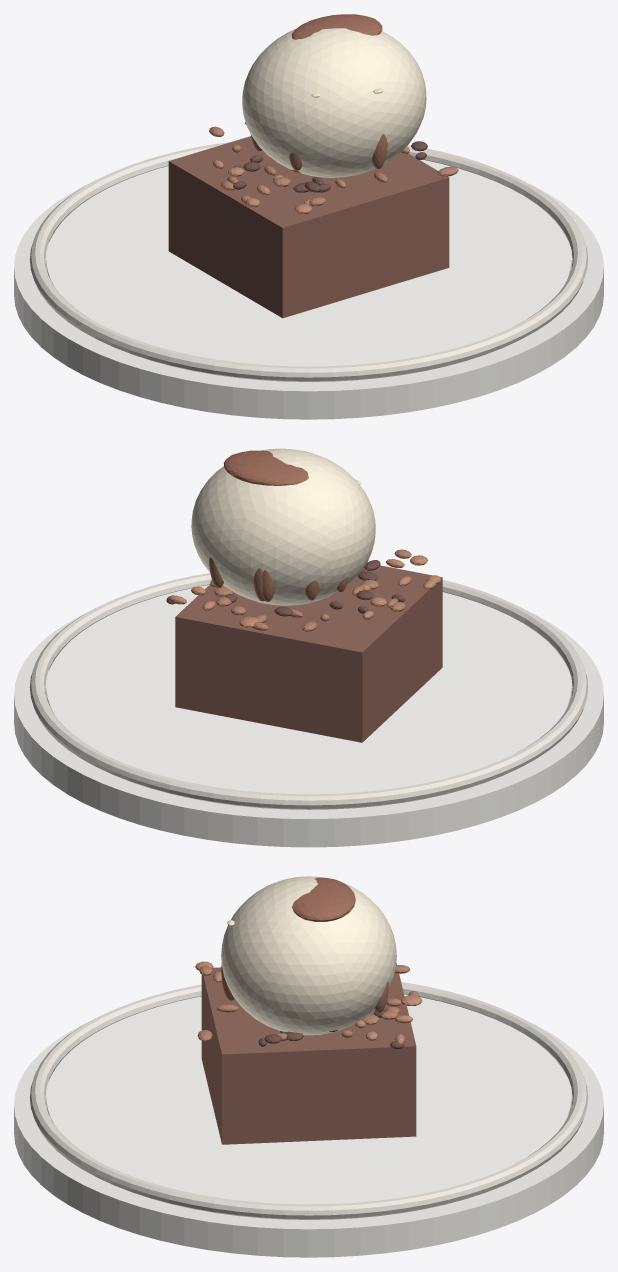
The model's file is brownie.glb.
3 views of the same model, one above another, from view 1: azimuth 30°, elevation 25°; view 2: azimuth 150°, elevation 25°; view 3: azimuth 270°, elevation 25° (orthographic).
Parts seen in each view (by area): view 1: part-2, part-4, part-1, part-60, part-3, part-86; view 2: part-2, part-4, part-1, part-60, part-3, part-86; view 3: part-2, part-1, part-4, part-60, part-3, part-86.
Part boxes in pixels (x1,y1,x2,y2): part-2: (46, 159, 571, 366); part-4: (168, 136, 449, 318); part-1: (14, 183, 603, 419); part-60: (242, 28, 426, 177); part-3: (29, 142, 588, 381); part-86: (292, 14, 382, 39); part-2: (46, 585, 571, 794); part-4: (175, 565, 442, 742); part-1: (14, 611, 603, 847); part-60: (191, 448, 375, 605); part-3: (29, 573, 588, 809); part-86: (224, 450, 308, 485); part-2: (46, 994, 571, 1204); part-1: (14, 1021, 603, 1257); part-4: (201, 962, 416, 1144); part-60: (221, 876, 396, 1035); part-3: (29, 982, 588, 1219); part-86: (292, 877, 355, 921).
Bounding box in the file's own units: 0.302 × 0.146 × 0.302.
